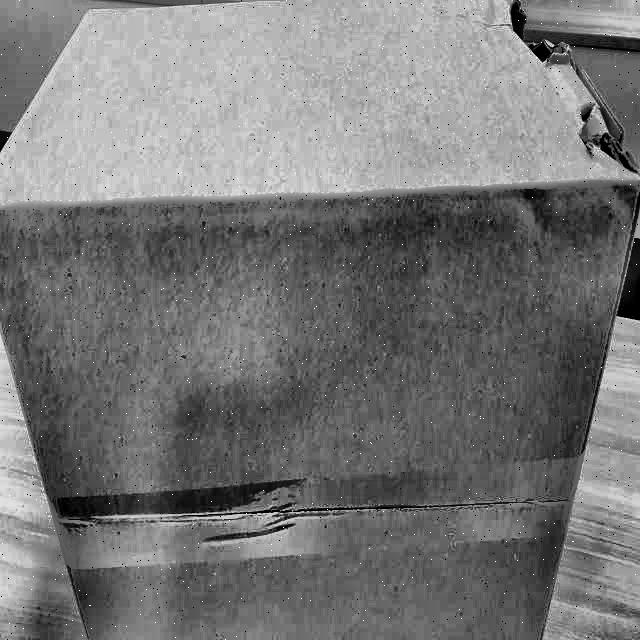box: (0, 2, 639, 639)
hole: (571, 95, 640, 207), (505, 0, 571, 68)
